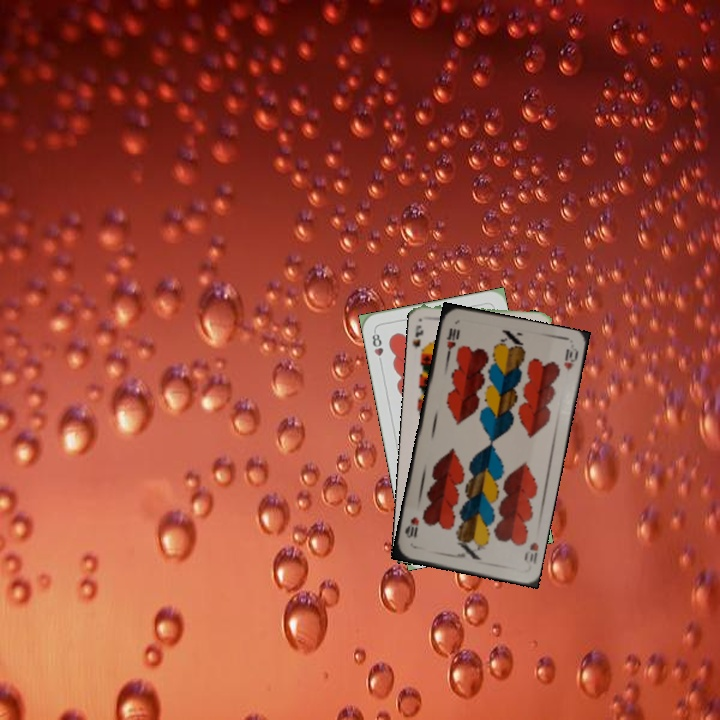H10: (443, 323, 462, 361), (520, 538, 541, 566)
H8: (368, 327, 386, 367)
S9: (410, 321, 429, 359)
